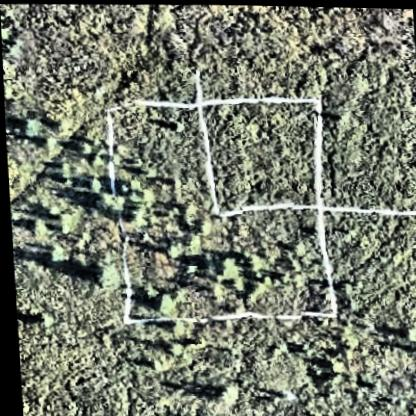tree-top: (121, 201, 151, 231), (92, 183, 119, 213), (210, 253, 237, 279), (31, 213, 59, 238), (79, 266, 105, 292), (209, 380, 234, 406), (38, 243, 63, 268), (174, 203, 200, 226), (47, 213, 70, 238), (23, 216, 46, 240), (240, 252, 262, 276), (14, 115, 37, 137), (149, 291, 170, 314), (160, 239, 181, 261), (177, 230, 198, 251), (33, 133, 53, 154), (136, 282, 155, 301), (82, 176, 100, 196), (29, 309, 47, 328), (176, 258, 194, 276), (53, 161, 70, 179), (73, 140, 90, 157), (160, 320, 178, 336), (159, 340, 176, 356), (301, 360, 318, 376), (320, 358, 336, 375), (396, 325, 412, 341), (167, 120, 180, 134)
